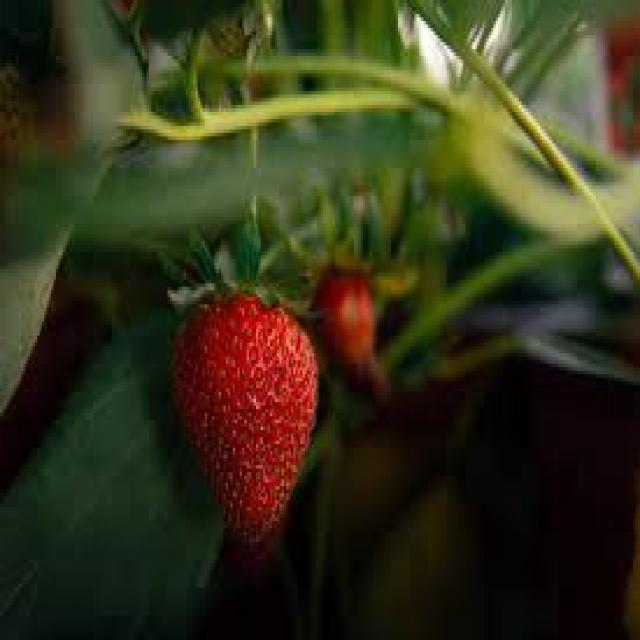Fruta sana: (166, 288, 320, 548), (316, 246, 378, 384)
